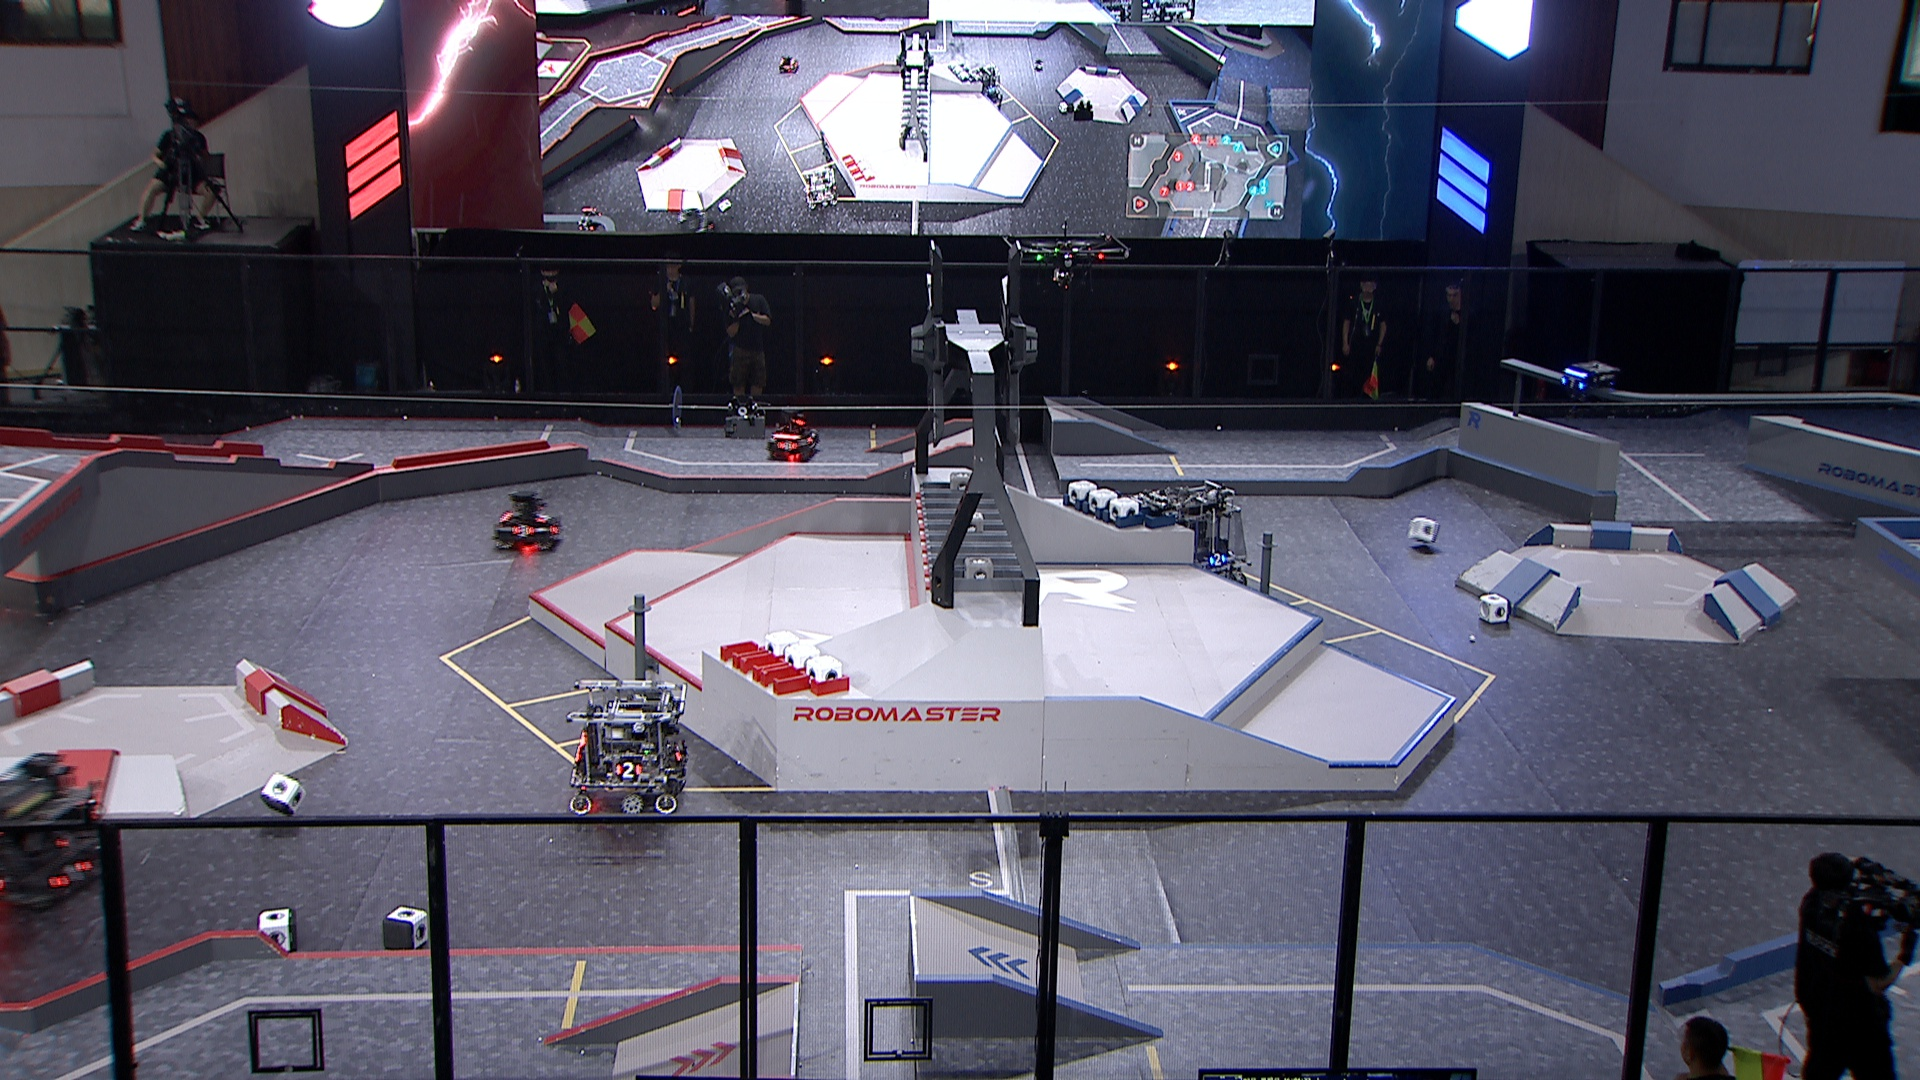armor: (54, 858, 87, 885), (615, 760, 640, 777), (671, 744, 688, 764), (1561, 375, 1582, 390), (513, 524, 535, 538), (1207, 553, 1226, 564), (800, 433, 816, 447), (535, 510, 553, 524), (779, 440, 798, 451)
car: (564, 669, 694, 818), (1133, 477, 1253, 600), (489, 488, 560, 555), (766, 410, 825, 465)
ignore: (799, 169, 843, 208), (671, 202, 713, 232), (967, 65, 1002, 98), (575, 206, 603, 233), (775, 53, 800, 76)
watcher: (1557, 349, 1621, 418)
